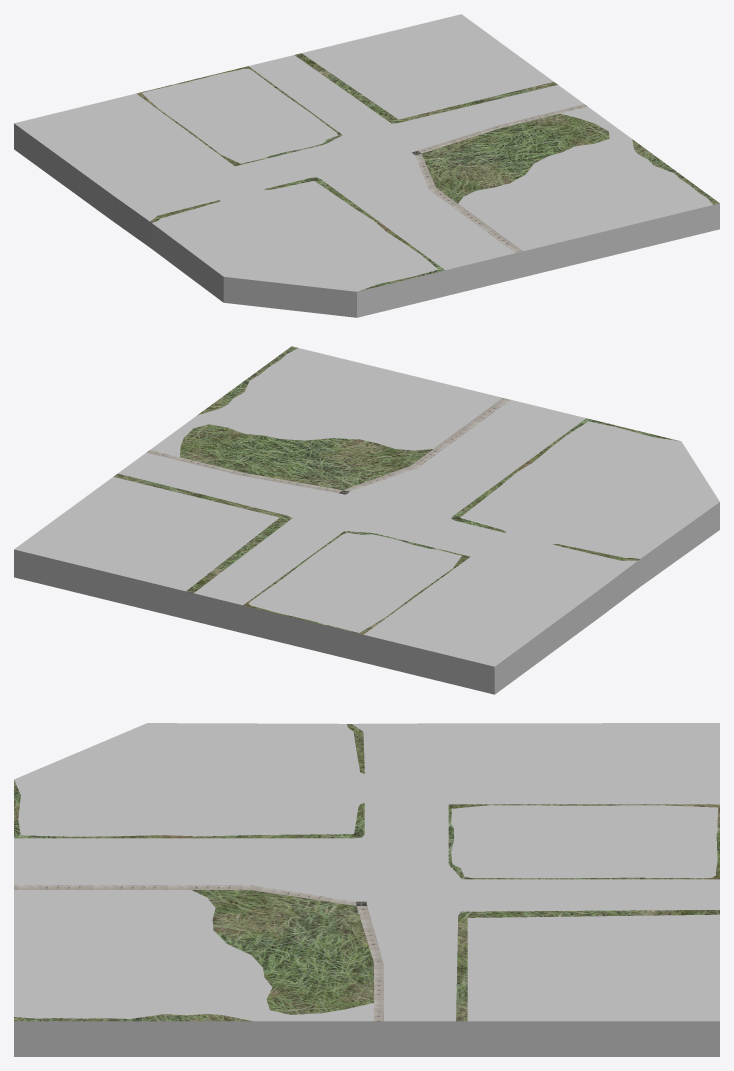
The picture shows the model from 3 angles, top to bottom: view 1: azimuth 30°, elevation 25°; view 2: azimuth 150°, elevation 25°; view 3: azimuth 270°, elevation 25°; orthographic projection. The views are drawn at different scales.
Parts seen in each view (by area): view 1: EB_002_a01; view 2: EB_002_a01; view 3: EB_002_a01.
Boxes of the visible parts, x1,y1,x2,y2 form: EB_002_a01: [14, 14, 719, 317]; EB_002_a01: [14, 346, 719, 694]; EB_002_a01: [14, 723, 719, 1056].
Bounding box in the file's own units: 36 × 2 × 36.
